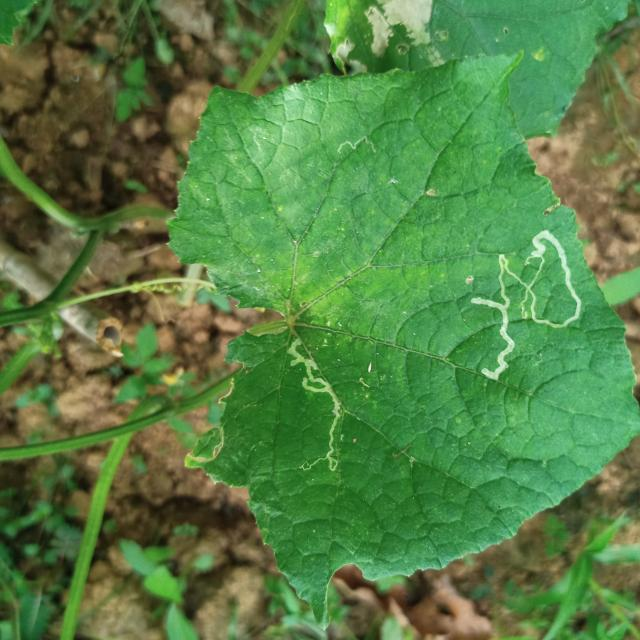disease_cucumber: (361, 0, 445, 67)
